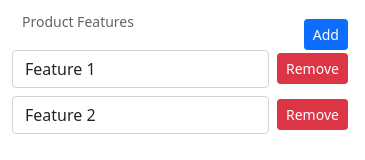
ProductMultiInput.vue › removes the item when "Remove" button is clicked
The width and height of the screenshot is (365, 160).
Click the 1st button with class "btn-danger". click: (312, 68)
box: [277,53,348,84]
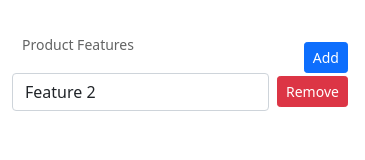
Expected: the number of fields is 1, [12,72,269,110]
Expected: the field holds "Feature 2", [12,72,269,110]
